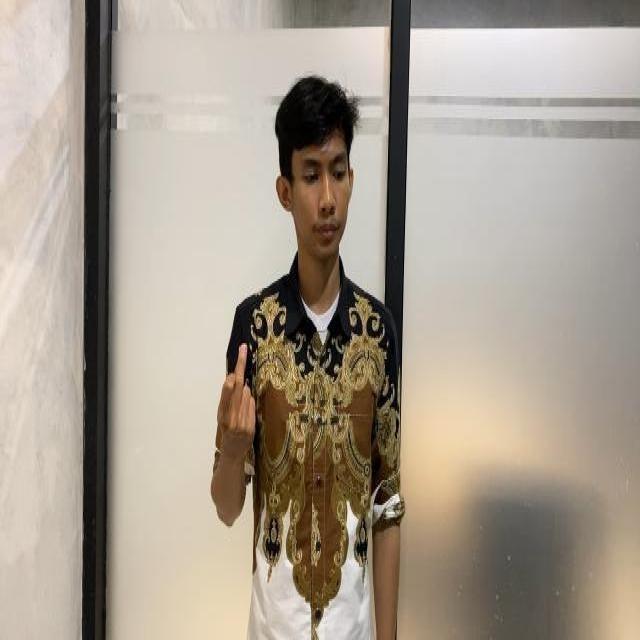R: (191, 331, 284, 497)
